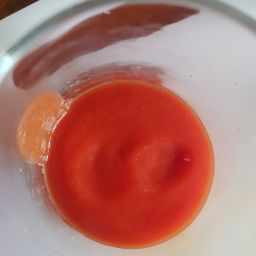Tomato paste: (37, 80, 223, 246), (79, 117, 180, 219)
